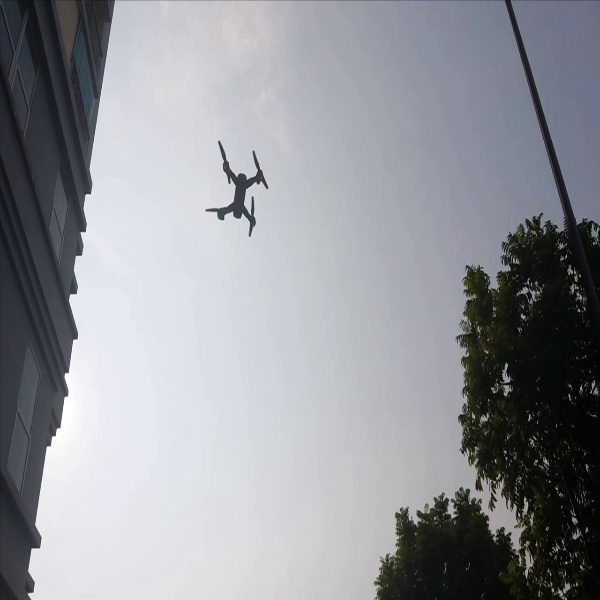drone: (199, 134, 274, 239)
